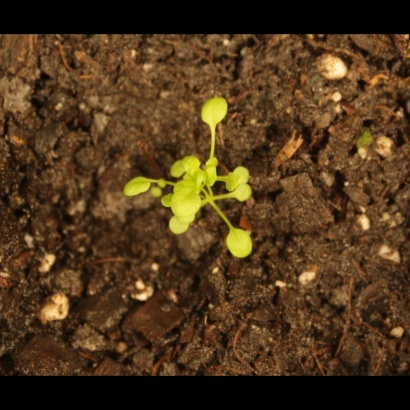leaf: (223, 225, 261, 262), (197, 96, 231, 129), (234, 185, 265, 219), (219, 168, 250, 198), (172, 190, 201, 219), (125, 174, 155, 201), (175, 204, 199, 237), (164, 217, 190, 246), (232, 161, 255, 184), (164, 157, 187, 180), (179, 152, 202, 175)
